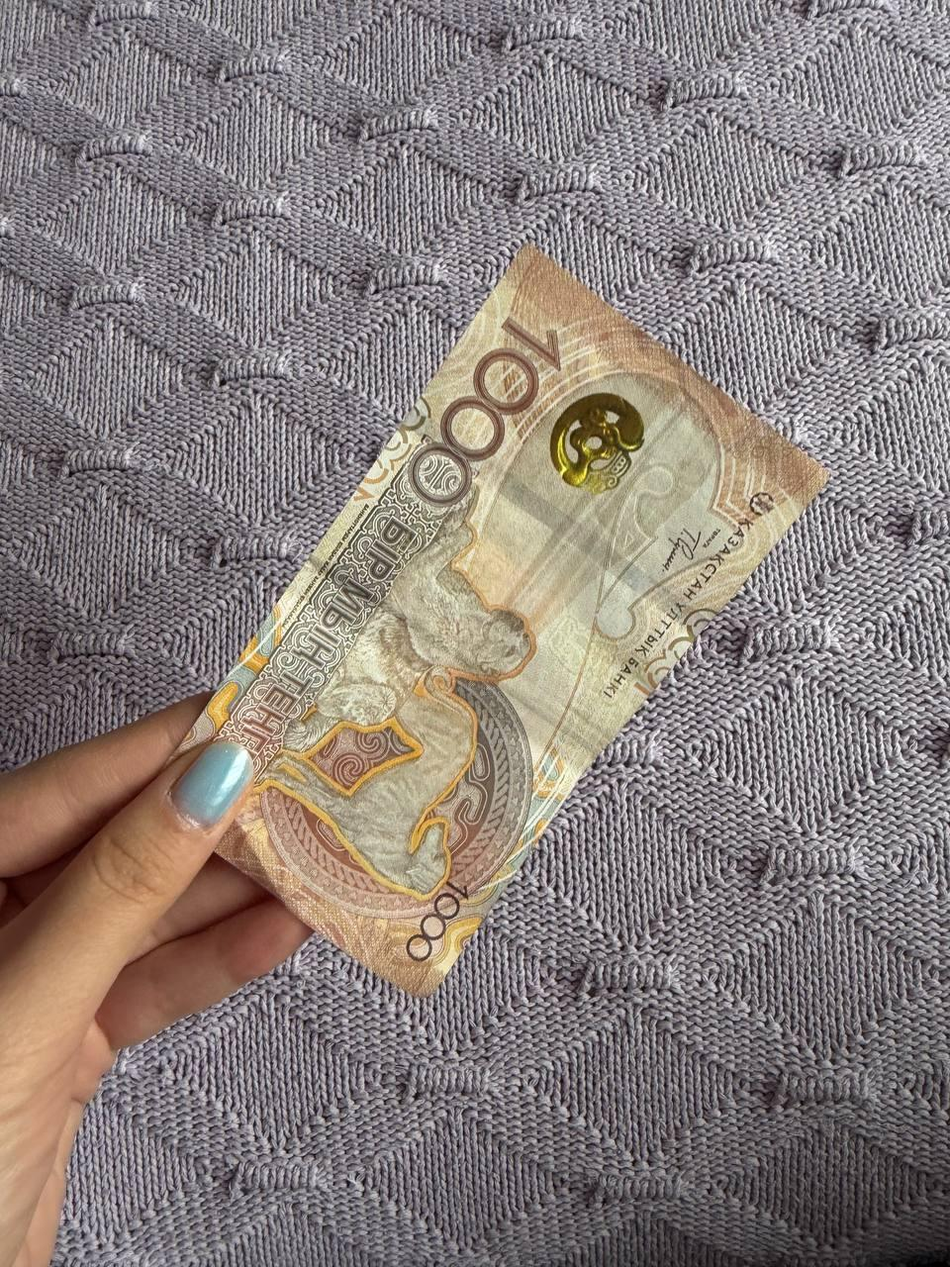cash_stack: (156, 238, 824, 995)
